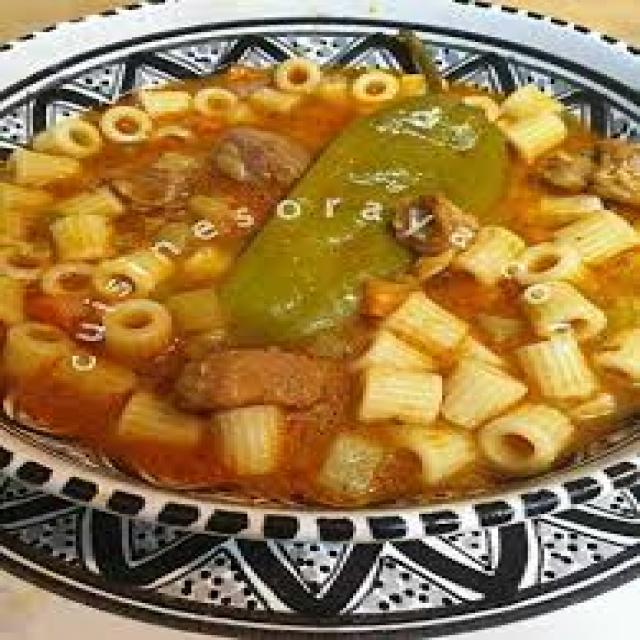Pasta: (0, 21, 638, 489)
